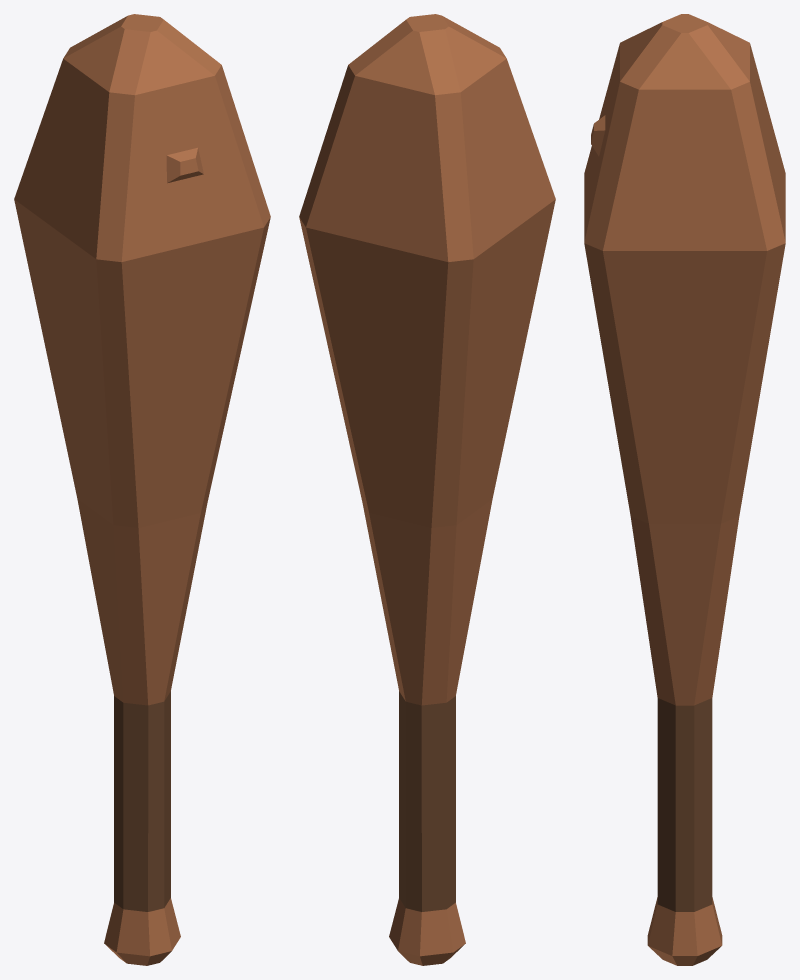
The model's file is club-CD9xtvmT.glb.
3 renders of one model, left to right at view 1: azimuth 30°, elevation 25°; view 2: azimuth 150°, elevation 25°; view 3: azimuth 270°, elevation 25°, orthographic.
Parts seen in each view (by area): view 1: baton_baton_0; view 2: baton_baton_0; view 3: baton_baton_0.
Part boxes in pixels (left/top/right/bottom): baton_baton_0: left=14, top=14, right=270, bottom=965; baton_baton_0: left=299, top=14, right=555, bottom=965; baton_baton_0: left=584, top=14, right=785, bottom=965.
Bounding box in the file's own units: 0.1664 × 0.85 × 0.1664.
1 material, 1 textured.
